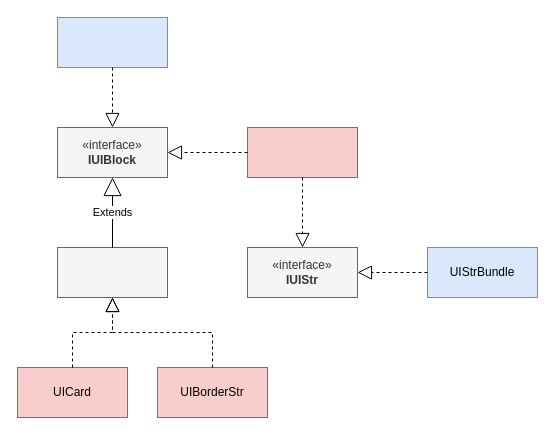
This 555x435 diagram has some shape labels left out. Each missing label, with the centre of its shape:
"UIBlockBundle" goes at [112,42].
"UIStr" goes at [302,152].
"«interface» IUIBorderBlock" goes at [112,272].
